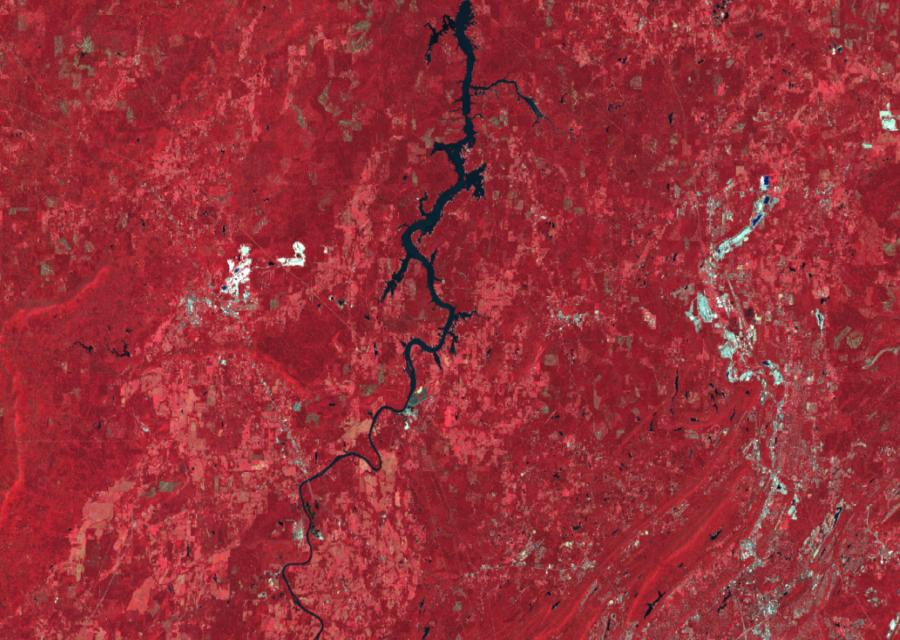Potential Lime Manufacturing Facility: (715, 180, 772, 255), (692, 287, 716, 330)
